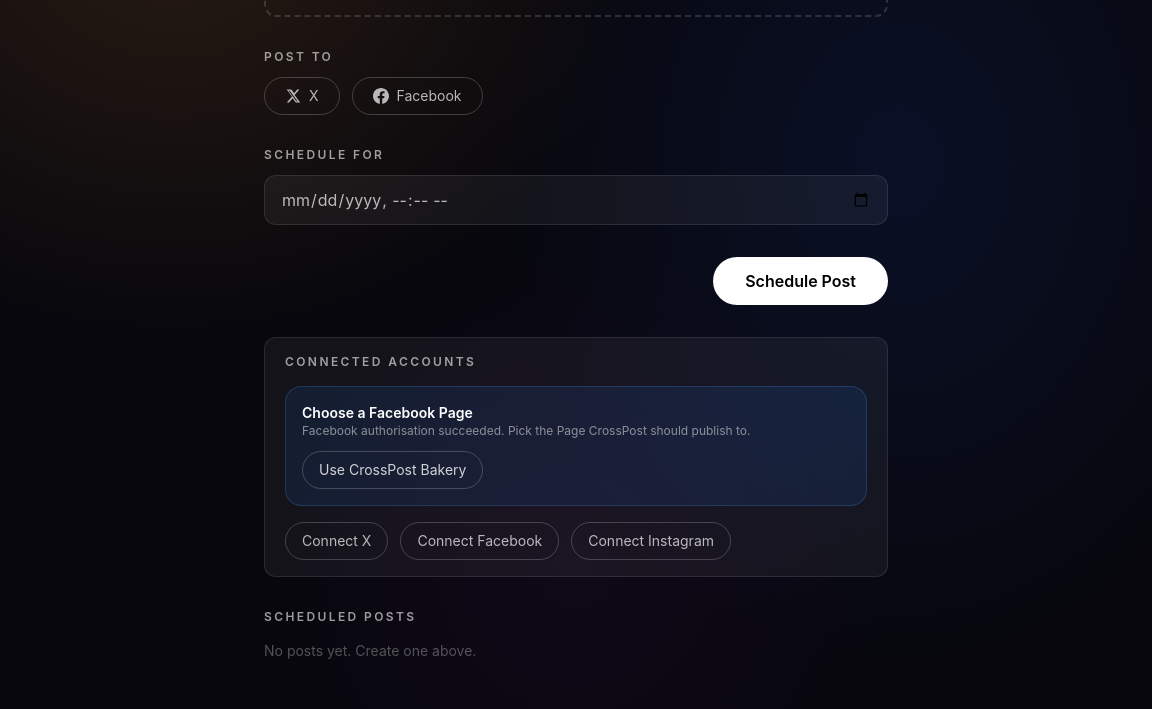
it: DashboardPage › selects a pending Facebook page and refreshes linked connections
(page scrolled)
Click the button "Use CrossPost Bakery" at (393, 470), box x1=302 y1=451 x2=483 y2=489
(page scrolled)
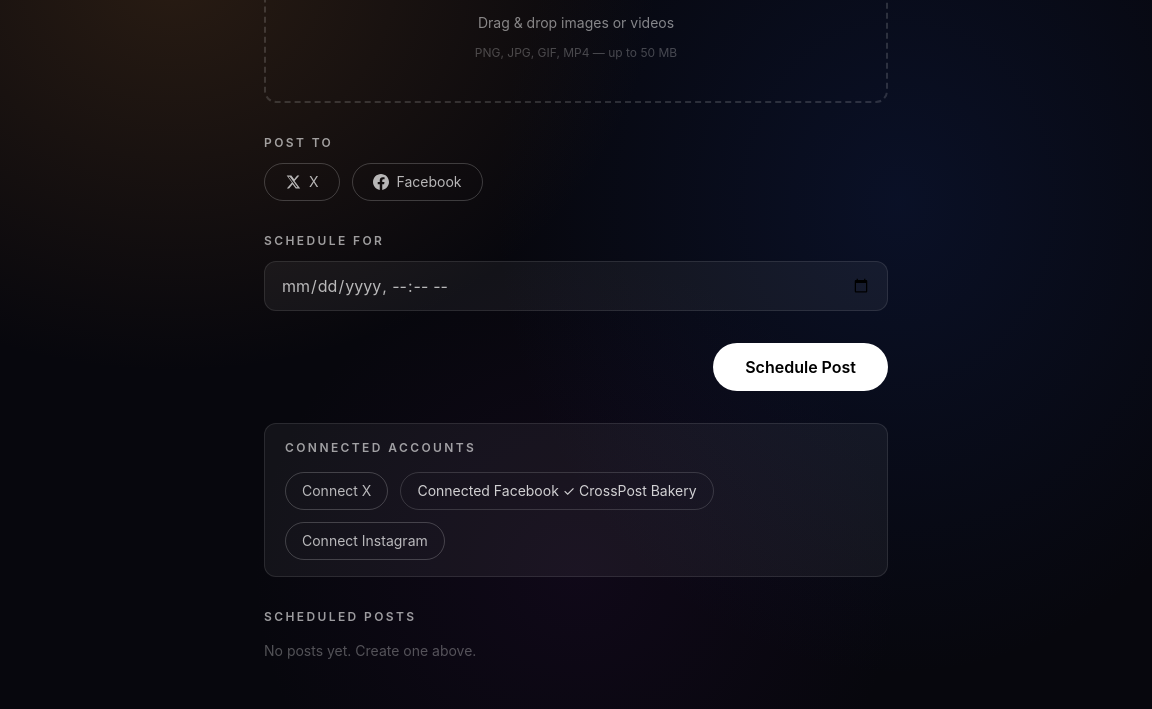
Expected: the text "Connected Facebook ✓ CrossPost Bakery" is shown, x1=400 y1=472 x2=714 y2=510
